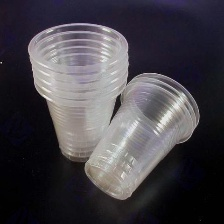glass: (79, 69, 211, 206), (26, 19, 134, 168)
